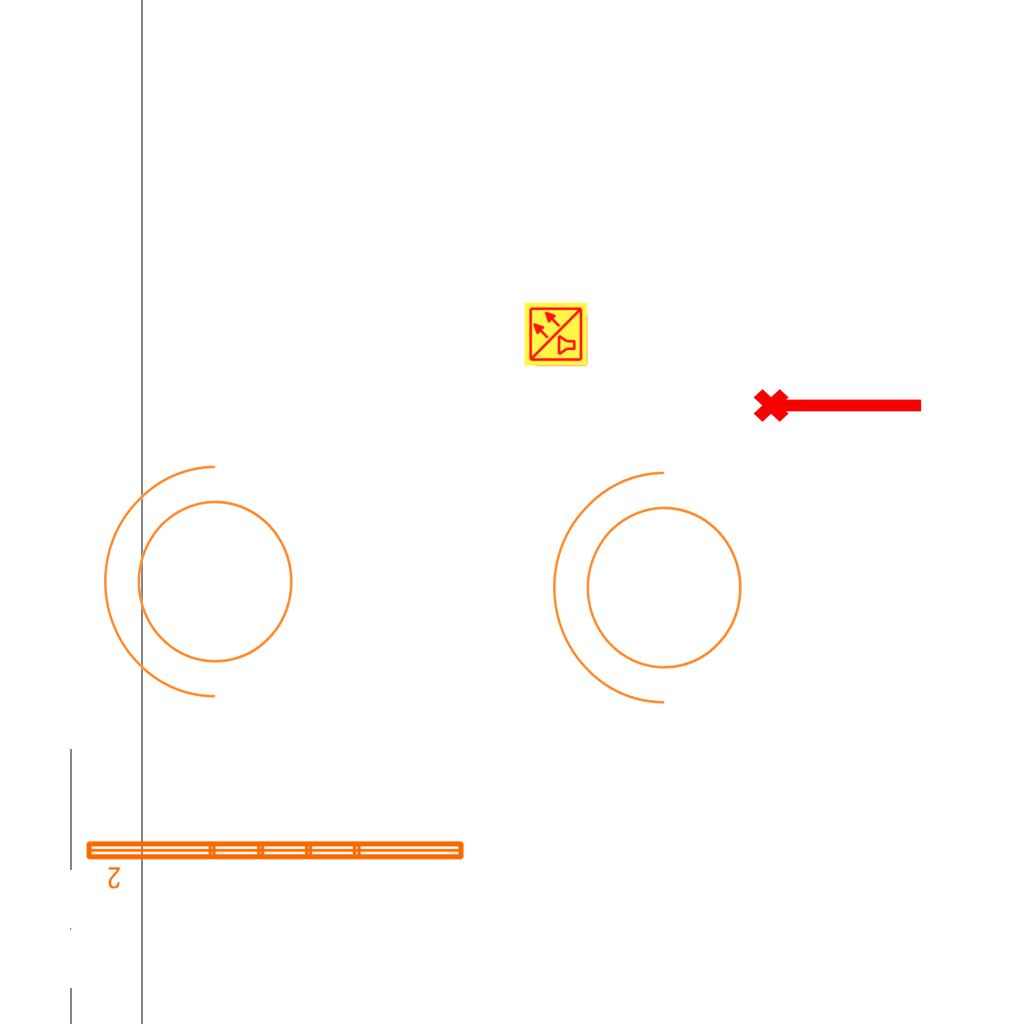ASR_Ansaugoeffnung: (751, 380, 927, 426)
Ambulanz_Pendelleuchte_LED: (82, 835, 469, 891)
OKW_Multisensormelder_(Kombination_optischer_Rauch-Kahlenmonoxid_Waerme-Melder): (523, 301, 589, 367)
Scheinwerfer_fuer_Alarmbeleuchtung: (93, 456, 318, 720), (542, 462, 767, 726)
